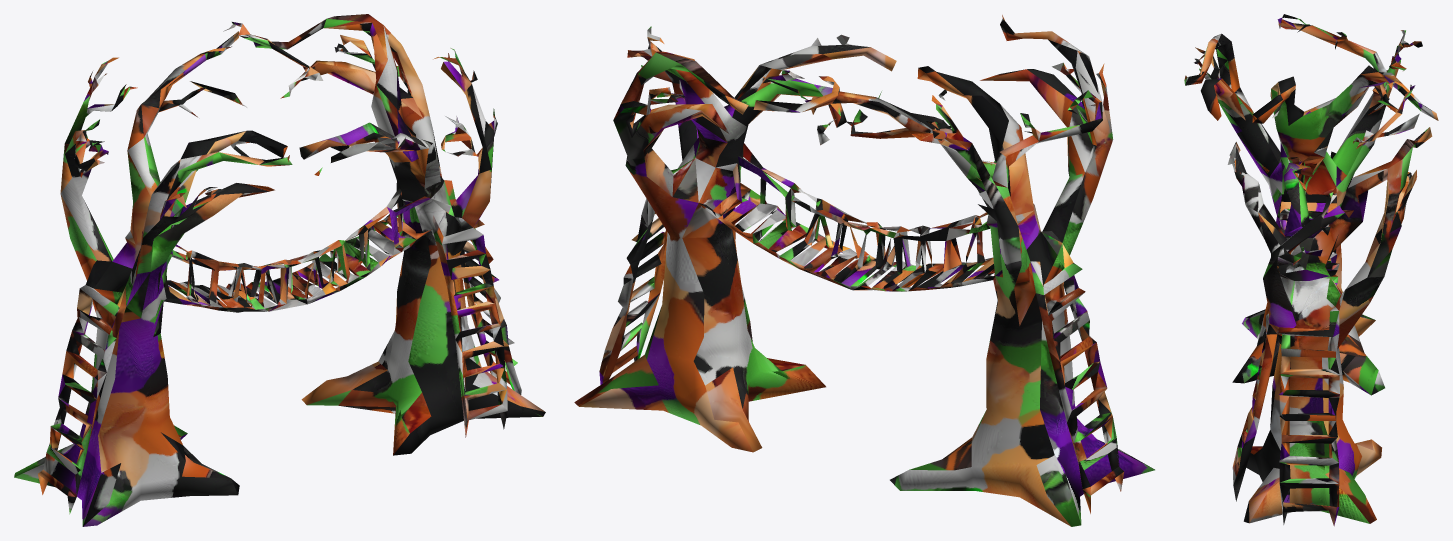
Rendered from Whispering Forest Low Poly.fbx.
3 renders of one model, left to right at view 1: azimuth 30°, elevation 25°; view 2: azimuth 150°, elevation 25°; view 3: azimuth 270°, elevation 25°, orthographic. The views are drawn at different scales.
Parts seen in each view (by area): view 1: char1; view 2: char1; view 3: char1.
Boxes of the visible parts, x1=… form: char1: x1=14, y1=14, x2=545, y2=526; char1: x1=574, y1=15, x2=1154, y2=526; char1: x1=1184, y1=14, x2=1438, y2=526.
Bounding box in the file's own units: 20706 × 16341 × 10818.
